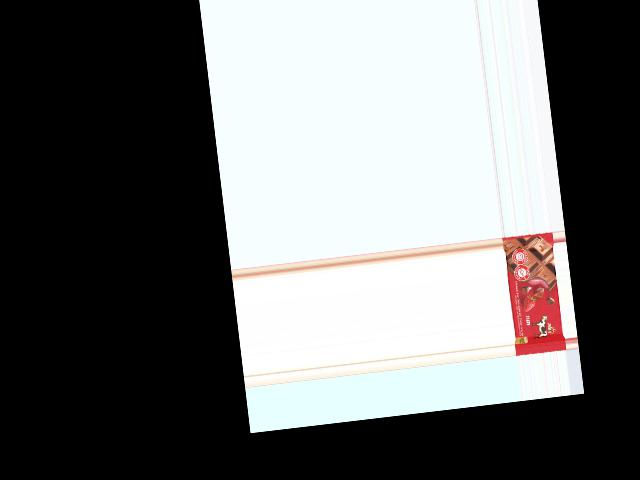chocolate: (501, 232, 566, 356)
